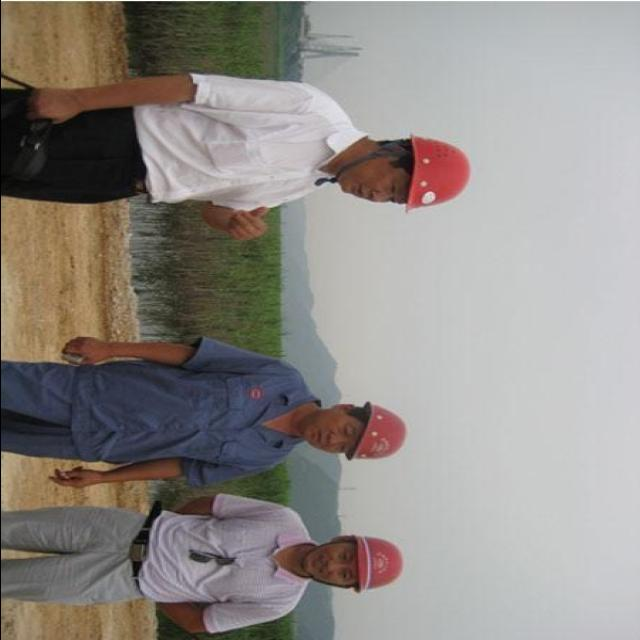helmet: (400, 125, 481, 222), (348, 520, 413, 602), (341, 396, 407, 468)
